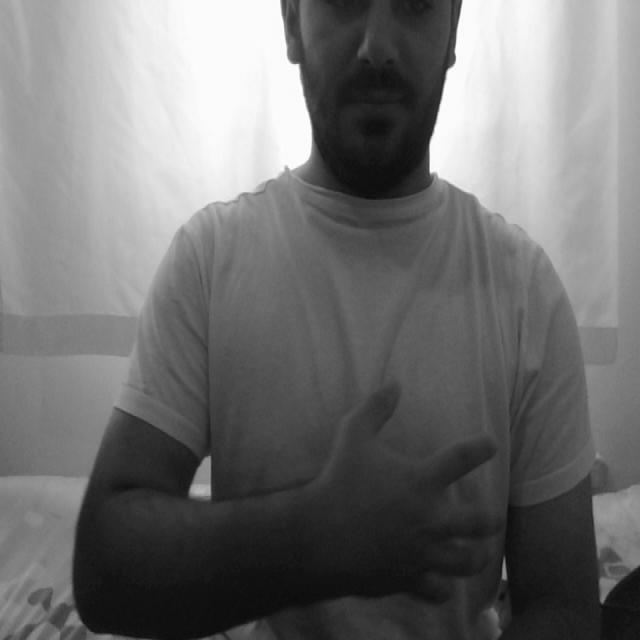Anne: (312, 367, 523, 618)
